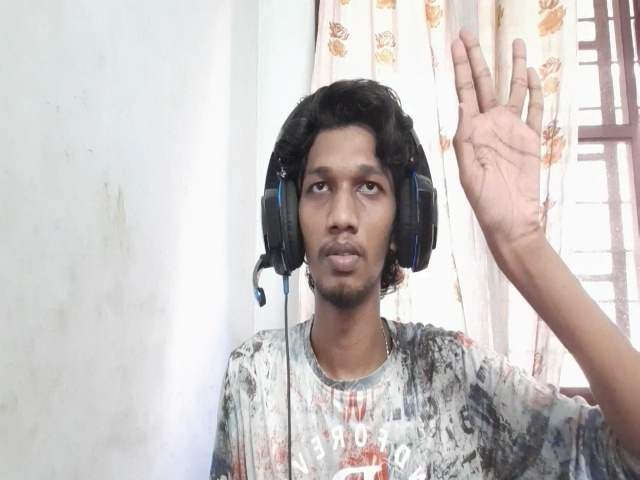LiveLong: (450, 26, 544, 237)
